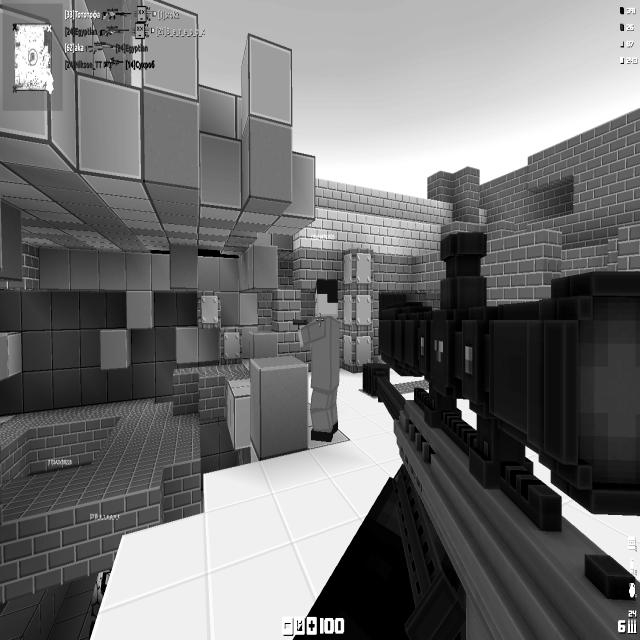Head: (13, 23, 53, 93), (314, 278, 338, 319)
Player: (297, 277, 340, 442)
